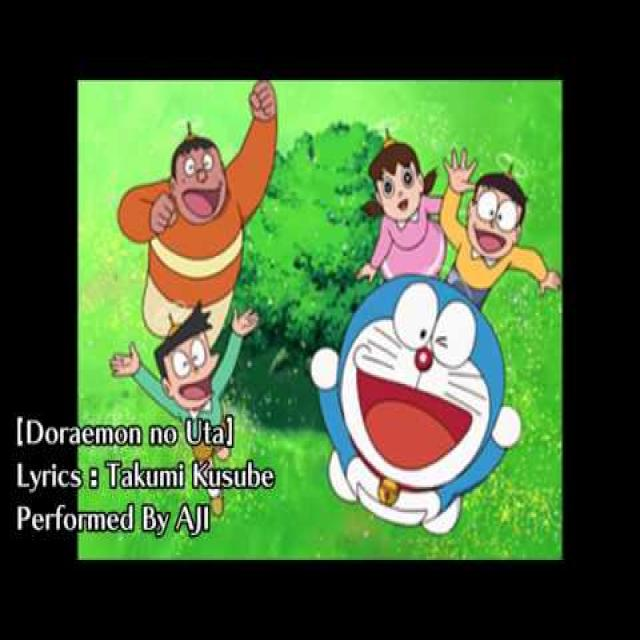doraemon: (343, 274, 504, 500)
jaian: (160, 122, 232, 228)
nobita: (460, 158, 532, 281)
shizuka: (363, 135, 444, 235)
suneo: (148, 295, 228, 411)
